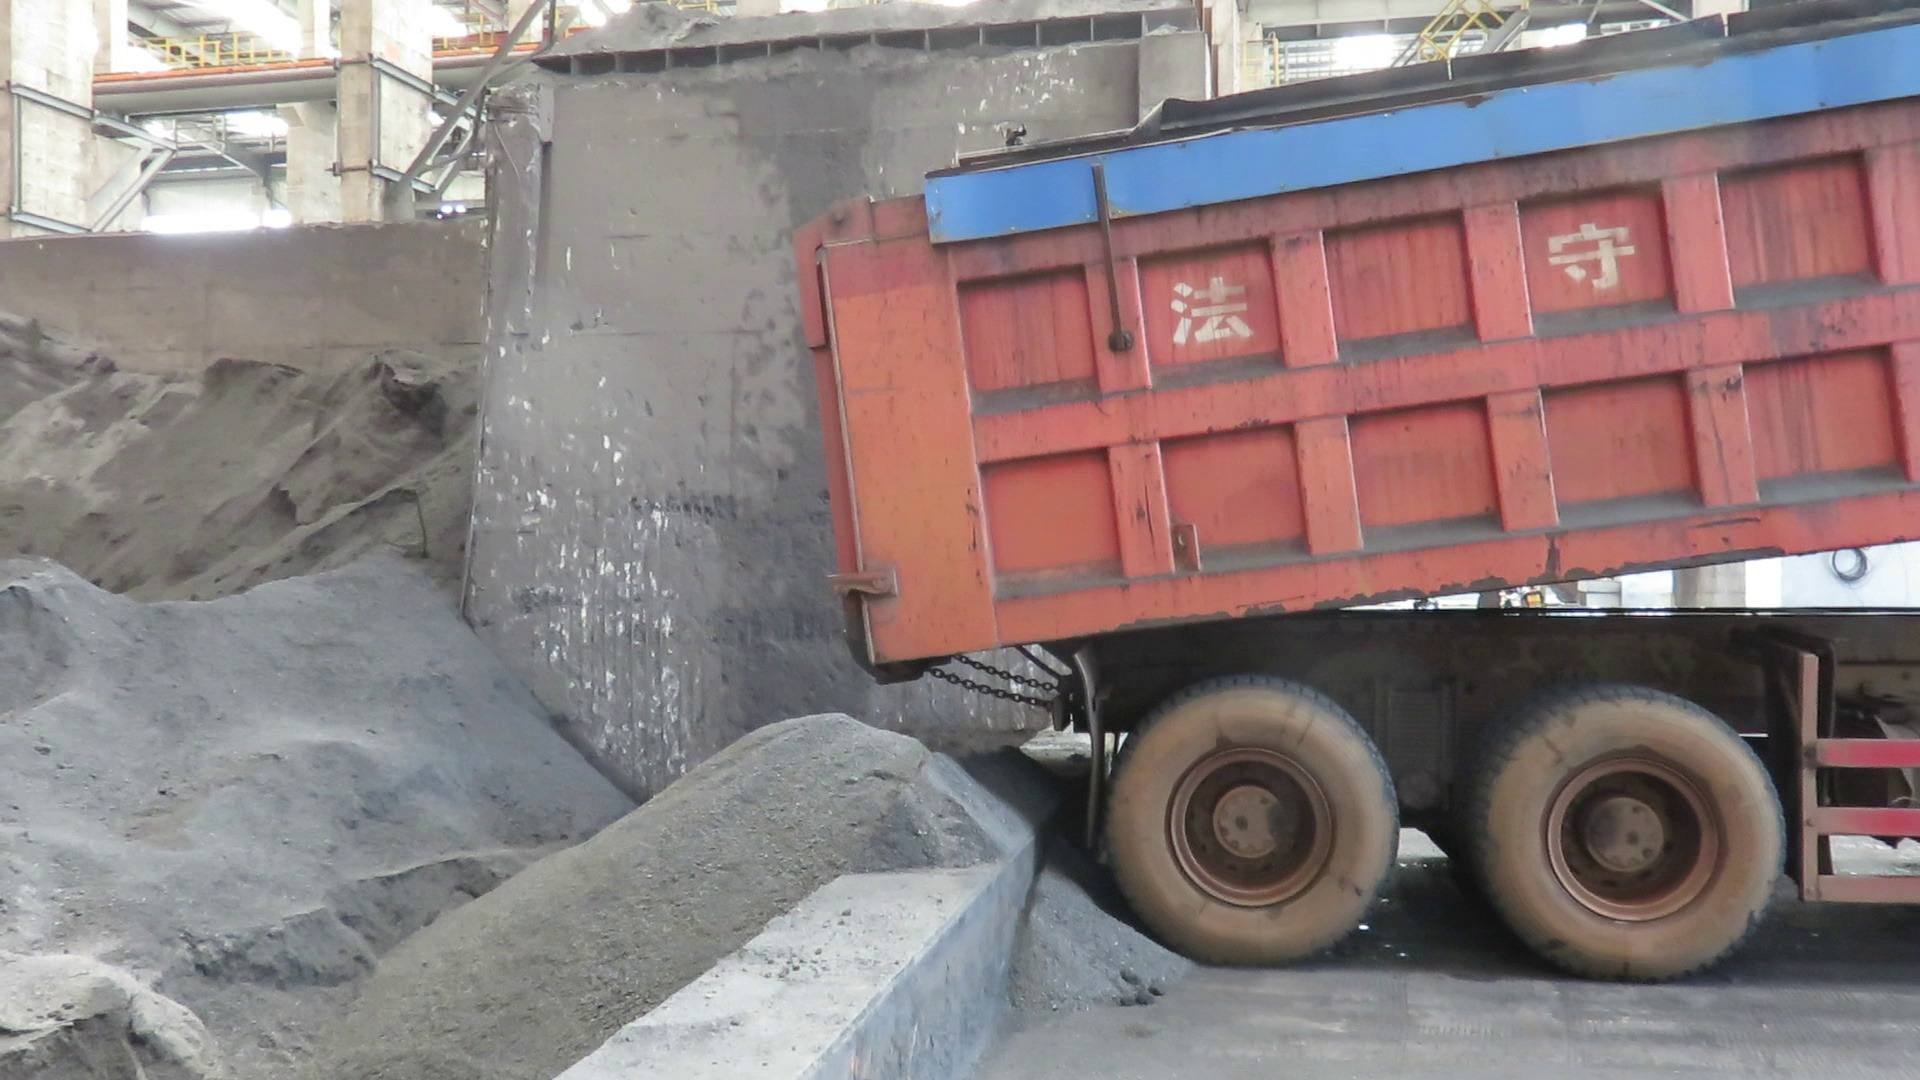truck: (778, 8, 1920, 985)
